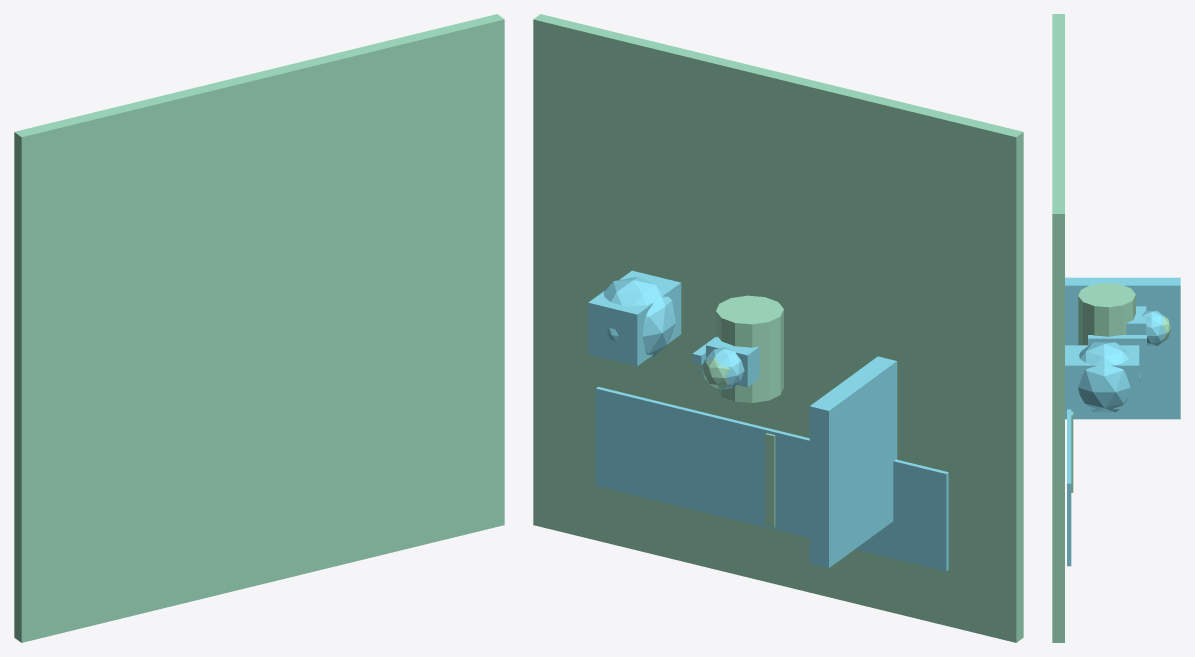
Rendered from metro-tycoon-kit.glb.
The picture shows the model from 3 angles, left to right: view 1: azimuth 30°, elevation 25°; view 2: azimuth 150°, elevation 25°; view 3: azimuth 270°, elevation 25°; orthographic projection. The views are drawn at different scales.
Parts seen in each view (by area): view 1: ENVIRONMENT_GROUND; view 2: ENVIRONMENT_GROUND, PROFILE_ENVIRONMENT_DETAIL, ENVIRONMENT_PANEL, PLAYER_BODY, PROFILE_OBSTACLE_DETAIL, OBSTACLE, PROFILE_ENVIRONMENT_MARKING, PROFILE_PLAYER_DETAIL, PLAYER_CORE; view 3: ENVIRONMENT_GROUND, ENVIRONMENT_PANEL, OBSTACLE, PLAYER_BODY, PROFILE_OBSTACLE_DETAIL, PROFILE_ENVIRONMENT_DETAIL, PLAYER_CORE, PROFILE_PLAYER_TOOL, PROFILE_PLAYER_DETAIL, PROFILE_ENVIRONMENT_MARKING.
Part boxes in pixels (x1,y1,x2,y2): ENVIRONMENT_GROUND: (14, 14, 504, 642); ENVIRONMENT_GROUND: (533, 14, 1023, 642); PROFILE_ENVIRONMENT_DETAIL: (595, 387, 948, 571); ENVIRONMENT_PANEL: (809, 356, 897, 568); PLAYER_BODY: (716, 295, 783, 402); PROFILE_OBSTACLE_DETAIL: (588, 270, 681, 366); OBSTACLE: (600, 276, 675, 358); PROFILE_ENVIRONMENT_MARKING: (765, 433, 775, 527); PROFILE_PLAYER_DETAIL: (706, 336, 759, 387); PLAYER_CORE: (702, 347, 744, 389); ENVIRONMENT_GROUND: (1052, 14, 1064, 642); ENVIRONMENT_PANEL: (1065, 277, 1180, 419); OBSTACLE: (1078, 342, 1140, 412); PLAYER_BODY: (1078, 283, 1135, 345); PROFILE_OBSTACLE_DETAIL: (1065, 345, 1139, 409); PROFILE_ENVIRONMENT_DETAIL: (1067, 409, 1071, 566); PLAYER_CORE: (1142, 311, 1166, 345); PROFILE_PLAYER_TOOL: (1088, 335, 1146, 346); PROFILE_PLAYER_DETAIL: (1126, 306, 1146, 350); PROFILE_ENVIRONMENT_MARKING: (1071, 411, 1073, 492).
Bounding box in the file's own units: 9 × 9 × 2.44.
